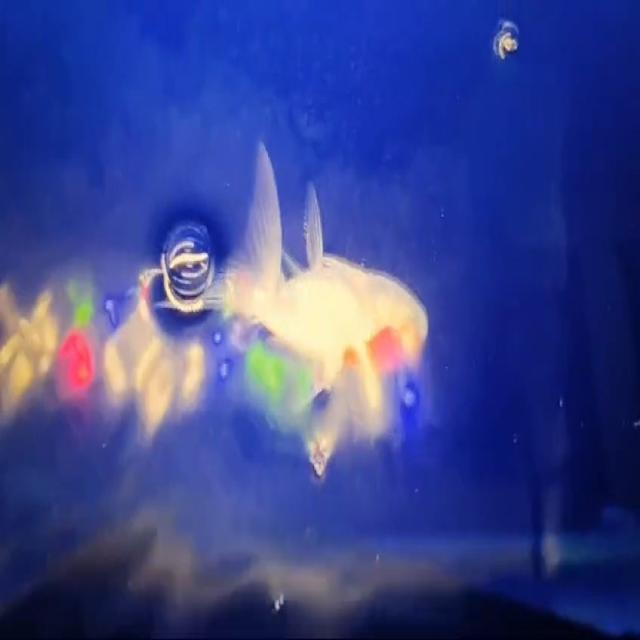fish: (212, 134, 428, 393)
